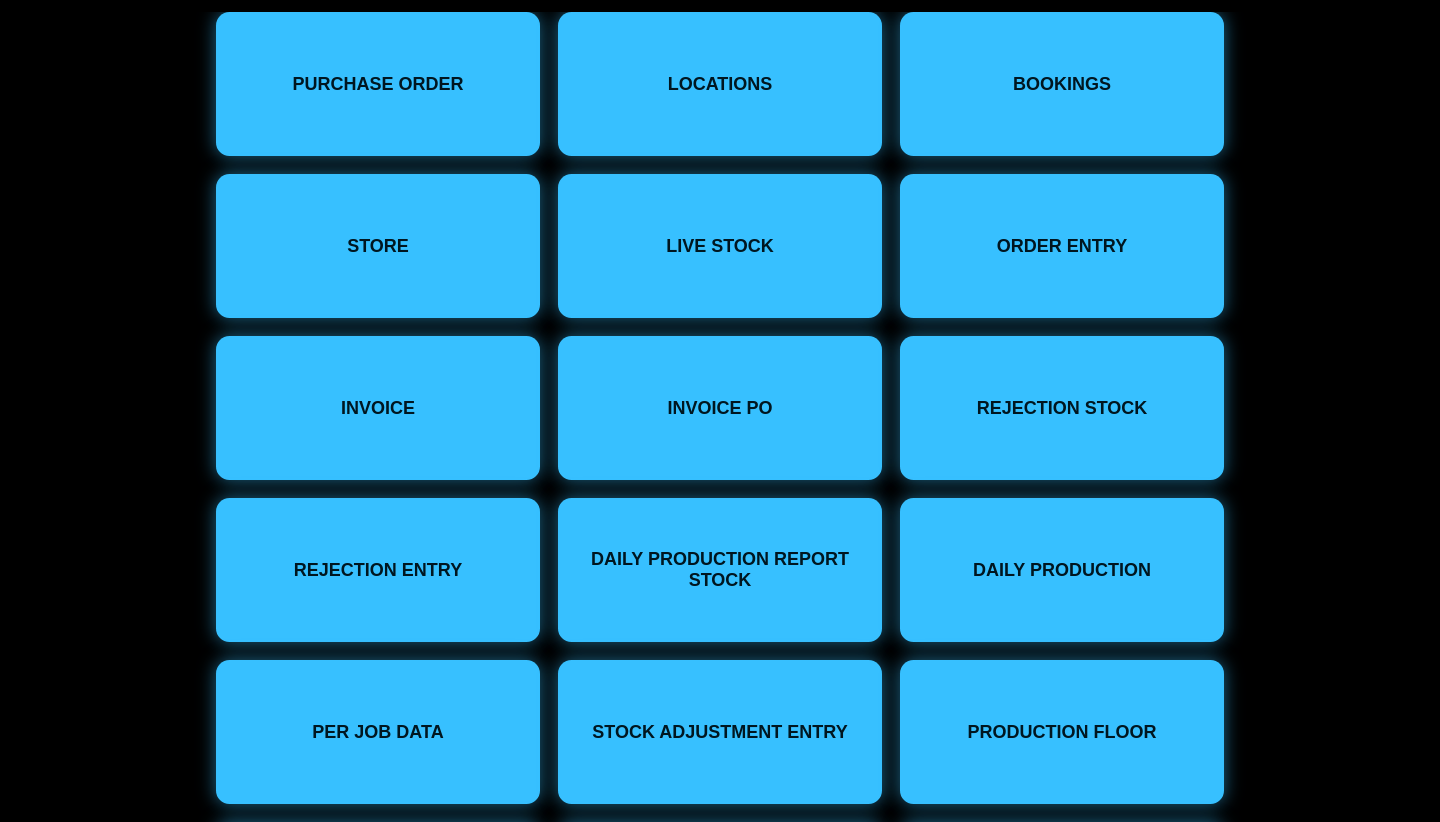
Test: homepage stock navigation › shows direct links for all stock resources and no generic Stock link
Expected: the button "LIVE STOCK" is shown, [558, 174, 882, 318]
Expected: the button "INVOICE" is shown, [216, 336, 540, 480]
Click the button "ORDER ENTRY" at (1062, 246), box [900, 174, 1224, 318]
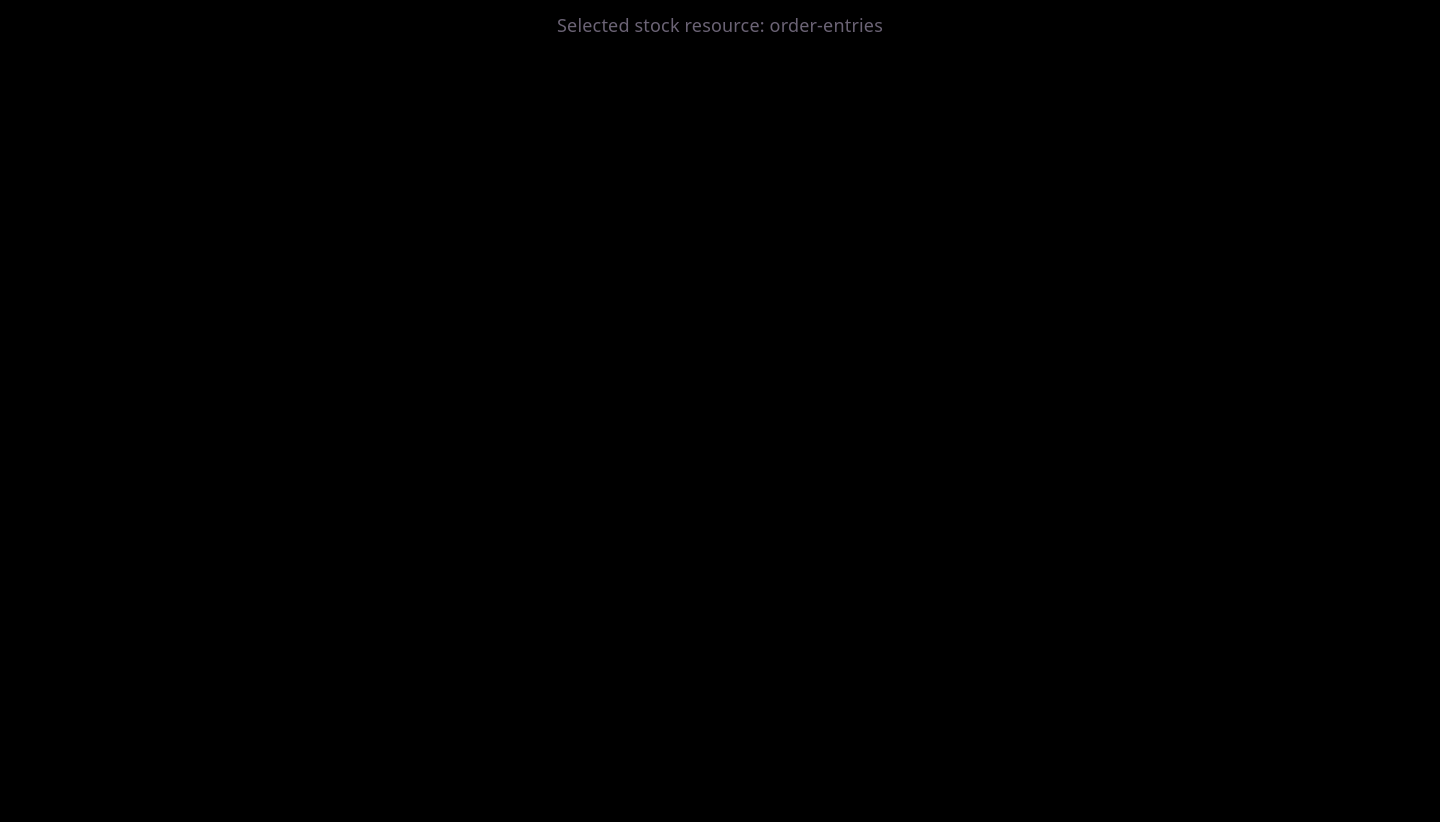
Result: the text "Selected stock resource: order-entries" is shown at [557, 13, 883, 37]
